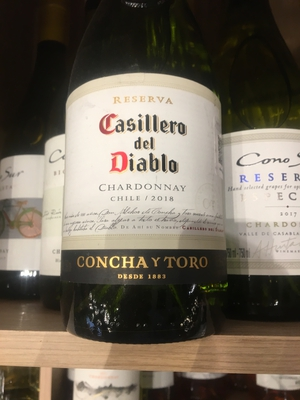casillero del diablo chardonnay: (57, 32, 235, 341)
